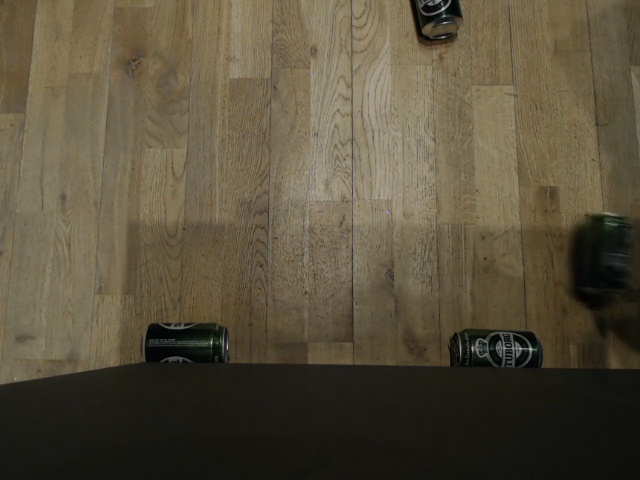beer: (140, 321, 230, 365), (448, 327, 544, 367), (584, 210, 627, 297), (410, 0, 464, 42)
